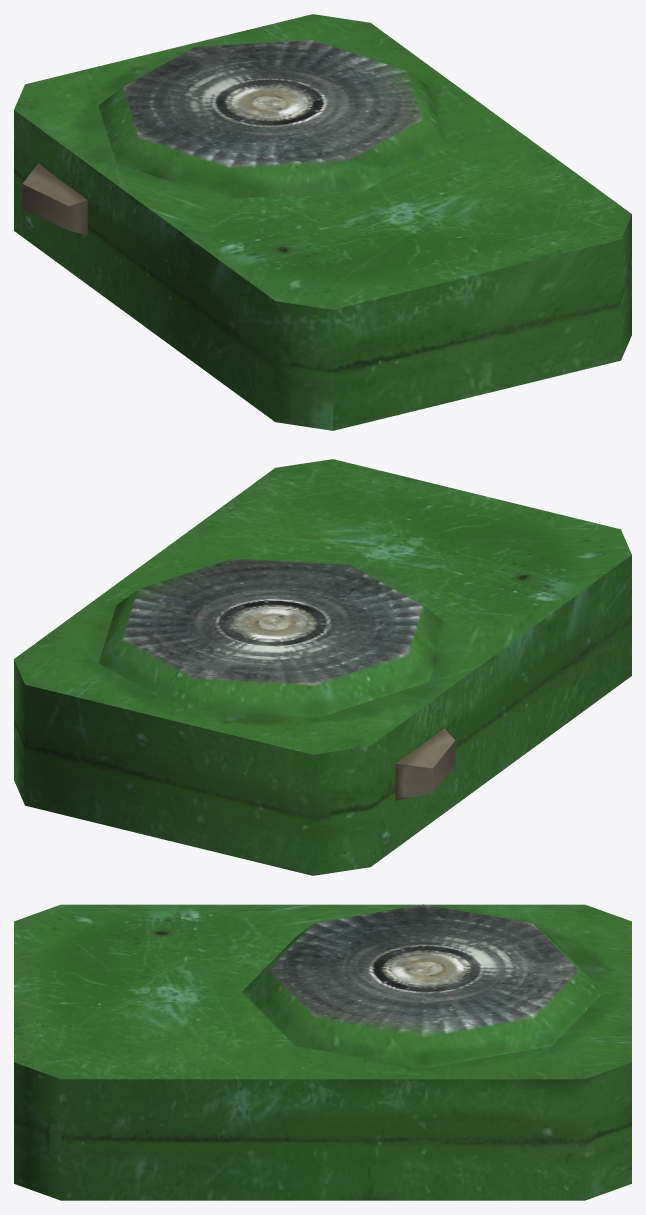
Rendered from Flashlight_Poquet.fbx.
3 views of the same model, one above another, from view 1: azimuth 30°, elevation 25°; view 2: azimuth 150°, elevation 25°; view 3: azimuth 270°, elevation 25° (orthographic).
Parts seen in each view (by area): view 1: Flashlight_Poquet; view 2: Flashlight_Poquet; view 3: Flashlight_Poquet.
Part boxes in pixels (<box>): Flashlight_Poquet: <box>14,14,631,430</box>; Flashlight_Poquet: <box>14,459,631,875</box>; Flashlight_Poquet: <box>14,904,631,1200</box>.
Size of the model in its own units: 8.52 by 3.03 by 11.85.
1 material, 1 textured.
